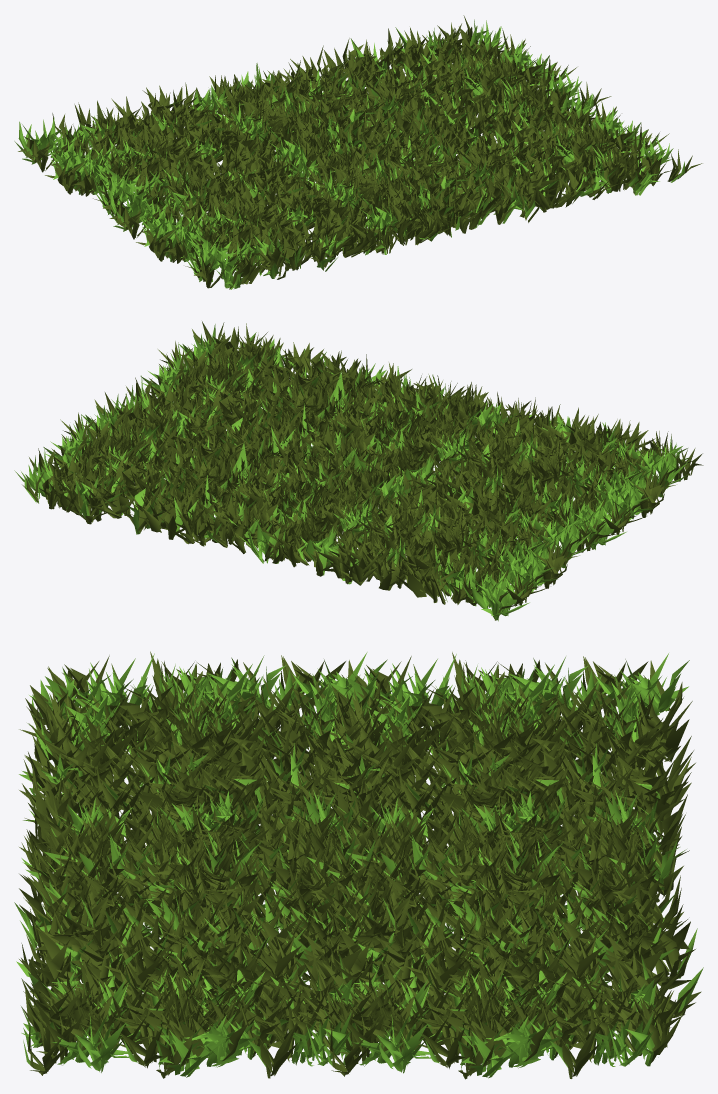
The model's file is ShortGRass.fbx.
3 renders of one model, top to bottom at view 1: azimuth 30°, elevation 25°; view 2: azimuth 150°, elevation 25°; view 3: azimuth 270°, elevation 25°, orthographic. The views are drawn at different scales.
Visible parts, largest first — view 1: shortgrass_1, shortgrass; view 2: shortgrass, shortgrass_1; view 3: shortgrass, shortgrass_1.
Part boxes in pixels (bbox=[...]): shortgrass_1: bbox=[106, 83, 702, 289]; shortgrass: bbox=[14, 15, 611, 221]; shortgrass: bbox=[14, 392, 605, 621]; shortgrass_1: bbox=[111, 321, 703, 549]; shortgrass: bbox=[317, 652, 703, 1079]; shortgrass_1: bbox=[14, 651, 401, 1078].
Size of the model in its own units: 20806 by 1873 by 14992.
